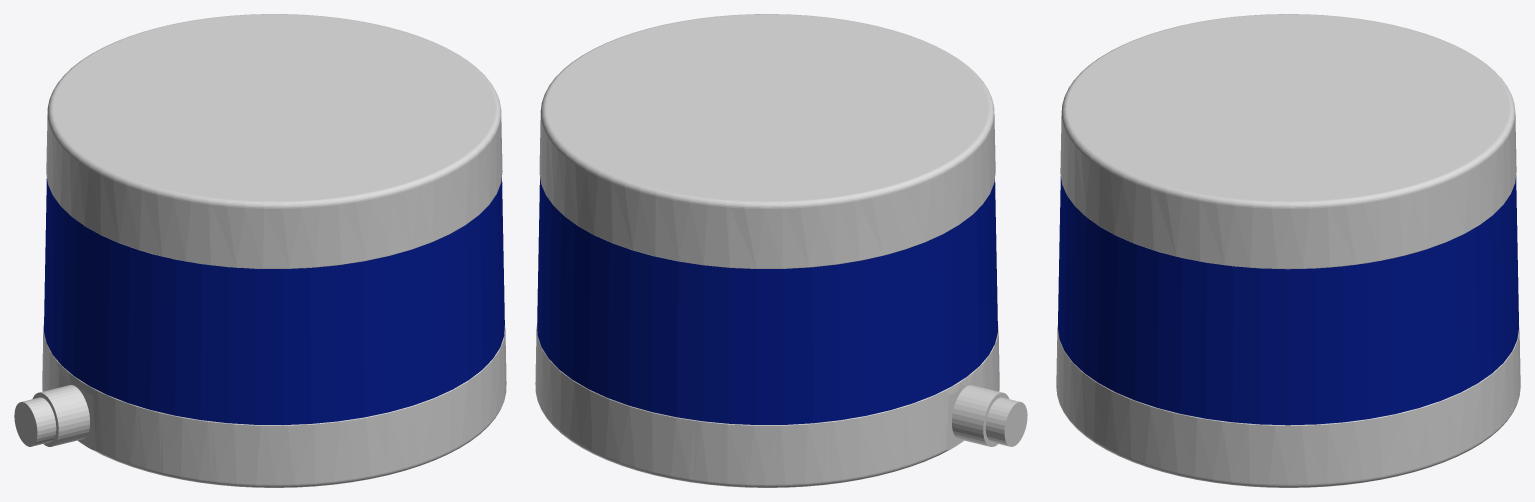
File: Vlp16.dae
3 renders of one model, left to right at view 1: azimuth 30°, elevation 25°; view 2: azimuth 150°, elevation 25°; view 3: azimuth 270°, elevation 25°, orthographic.
Parts seen in each view (by area): view 1: VLP16_base_2, VLP16_scan, VLP16_base_1; view 2: VLP16_base_2, VLP16_scan, VLP16_base_1; view 3: VLP16_base_2, VLP16_scan, VLP16_base_1.
Part boxes in pixels (x1=…): VLP16_base_2: x1=46, y1=14, x2=502, y2=268; VLP16_scan: x1=44, y1=178, x2=504, y2=425; VLP16_base_1: x1=14, y1=253, x2=506, y2=487; VLP16_base_2: x1=539, y1=14, x2=995, y2=268; VLP16_scan: x1=537, y1=178, x2=997, y2=424; VLP16_base_1: x1=535, y1=253, x2=1027, y2=487; VLP16_base_2: x1=1060, y1=14, x2=1516, y2=268; VLP16_scan: x1=1058, y1=175, x2=1518, y2=425; VLP16_base_1: x1=1056, y1=251, x2=1520, y2=487.
Size of the model in its own units: 0.077 by 0.0689 by 0.0464.
